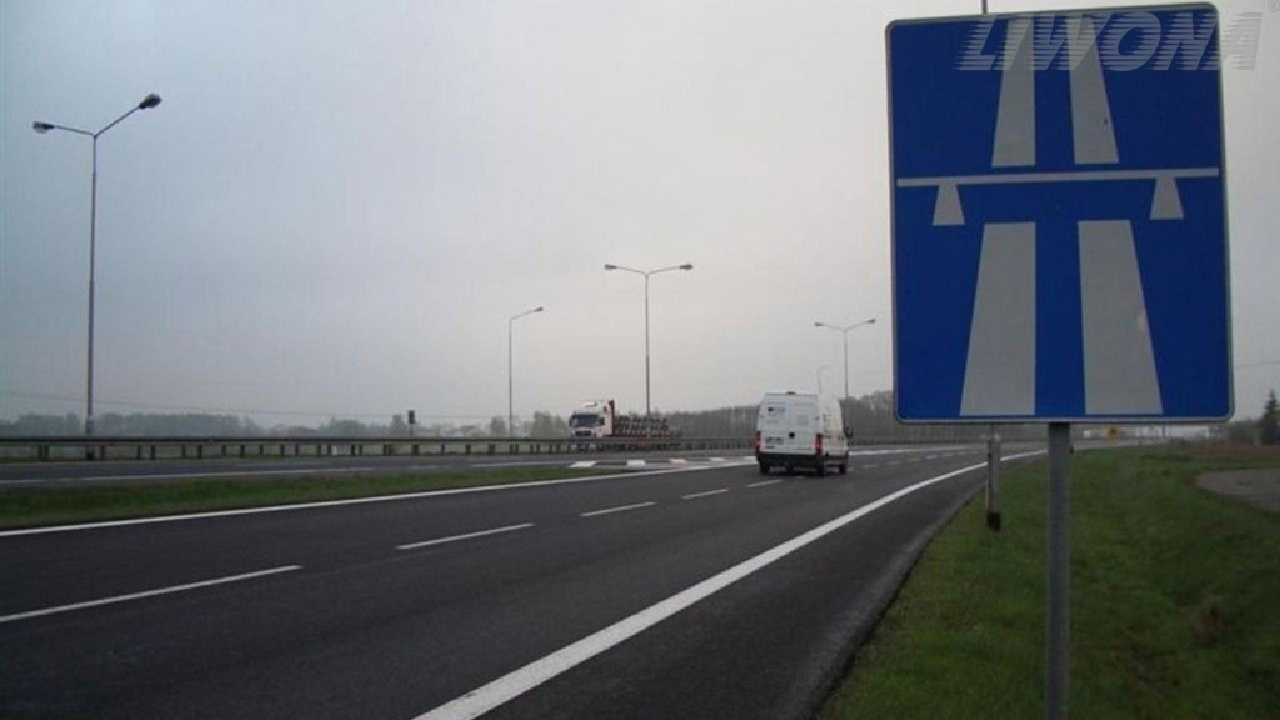D9: (878, 11, 1237, 431)
